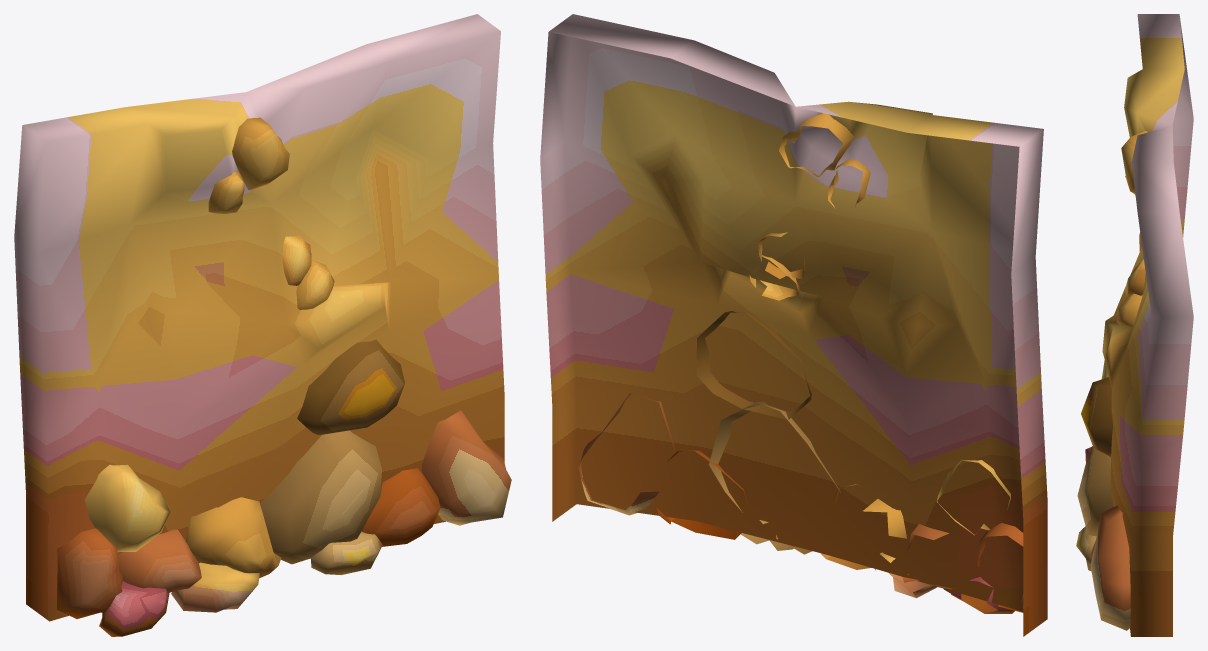
The model's file is SM_caveWall.fbx.
The picture shows the model from 3 angles, left to right: view 1: azimuth 30°, elevation 25°; view 2: azimuth 150°, elevation 25°; view 3: azimuth 270°, elevation 25°; orthographic projection. The views are drawn at different scales.
Parts seen in each view (by area): view 1: SM_caveWall; view 2: SM_caveWall; view 3: SM_caveWall.
Boxes of the visible parts, x1=… form: SM_caveWall: x1=14, y1=14, x2=511, y2=636; SM_caveWall: x1=540, y1=14, x2=1047, y2=636; SM_caveWall: x1=1076, y1=14, x2=1193, y2=636.
Bounding box in the file's own units: 453 × 469 × 114.
Materials: 1 (1 with a texture image).
